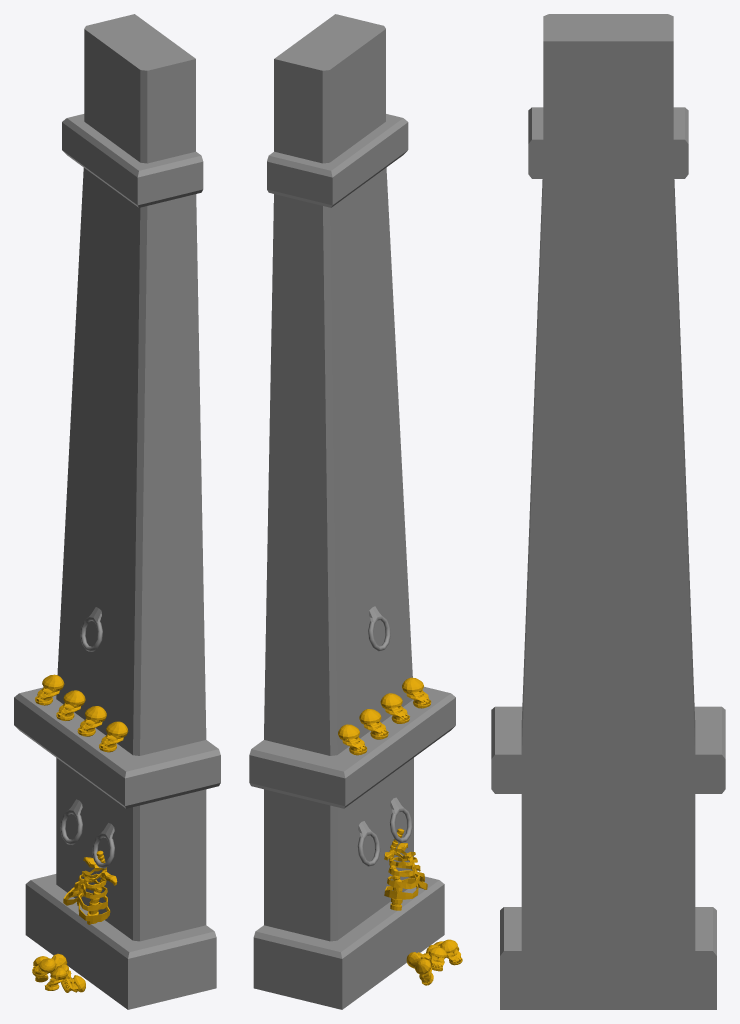
The model's file is column_compo_2.FBX.
The picture shows the model from 3 angles, left to right: view 1: azimuth 30°, elevation 25°; view 2: azimuth 150°, elevation 25°; view 3: azimuth 270°, elevation 25°; orthographic projection. The views are drawn at different scales.
Visible parts, largest first — view 1: Column001, chest002, head007, head008, head009, head010, Torus004, Torus005, Torus003; view 2: Column001, chest002, head010, head008, head009, head007, Torus003, Torus004, Torus005; view 3: Column001.
Boxes of the visible parts, bbox=[...] form: Column001: bbox=[14, 14, 220, 1009]; chest002: bbox=[63, 850, 117, 924]; head007: bbox=[35, 674, 64, 705]; head008: bbox=[56, 690, 85, 720]; head009: bbox=[77, 706, 106, 736]; head010: bbox=[99, 721, 128, 752]; Torus004: bbox=[60, 799, 82, 844]; Torus005: bbox=[80, 607, 102, 651]; Torus003: bbox=[92, 823, 114, 868]; Column001: bbox=[249, 14, 455, 1009]; chest002: bbox=[384, 828, 427, 910]; head010: bbox=[402, 677, 431, 708]; head008: bbox=[359, 709, 388, 739]; head009: bbox=[380, 693, 409, 723]; head007: bbox=[338, 724, 367, 755]; Torus003: bbox=[389, 797, 412, 843]; Torus004: bbox=[357, 821, 380, 866]; Torus005: bbox=[368, 606, 390, 651]; Column001: bbox=[491, 14, 725, 1009].
Bounding box in the file's own units: 78.21 × 495 × 108.
